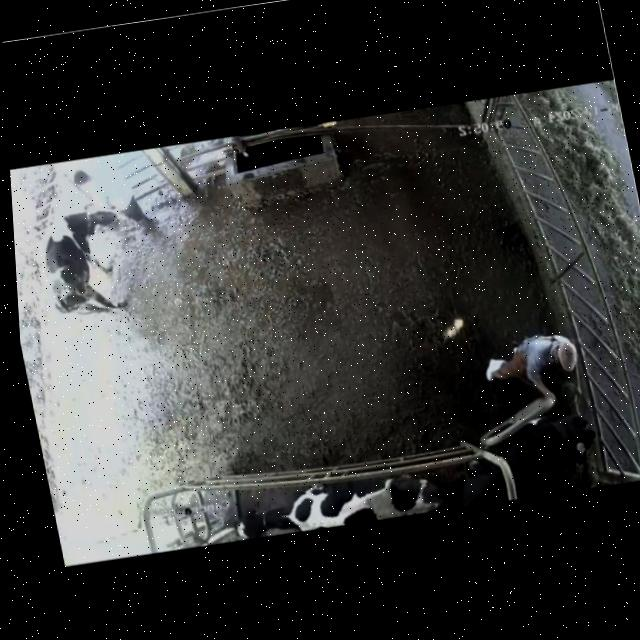stand: (220, 450, 447, 557), (437, 415, 611, 524), (34, 201, 139, 334)
